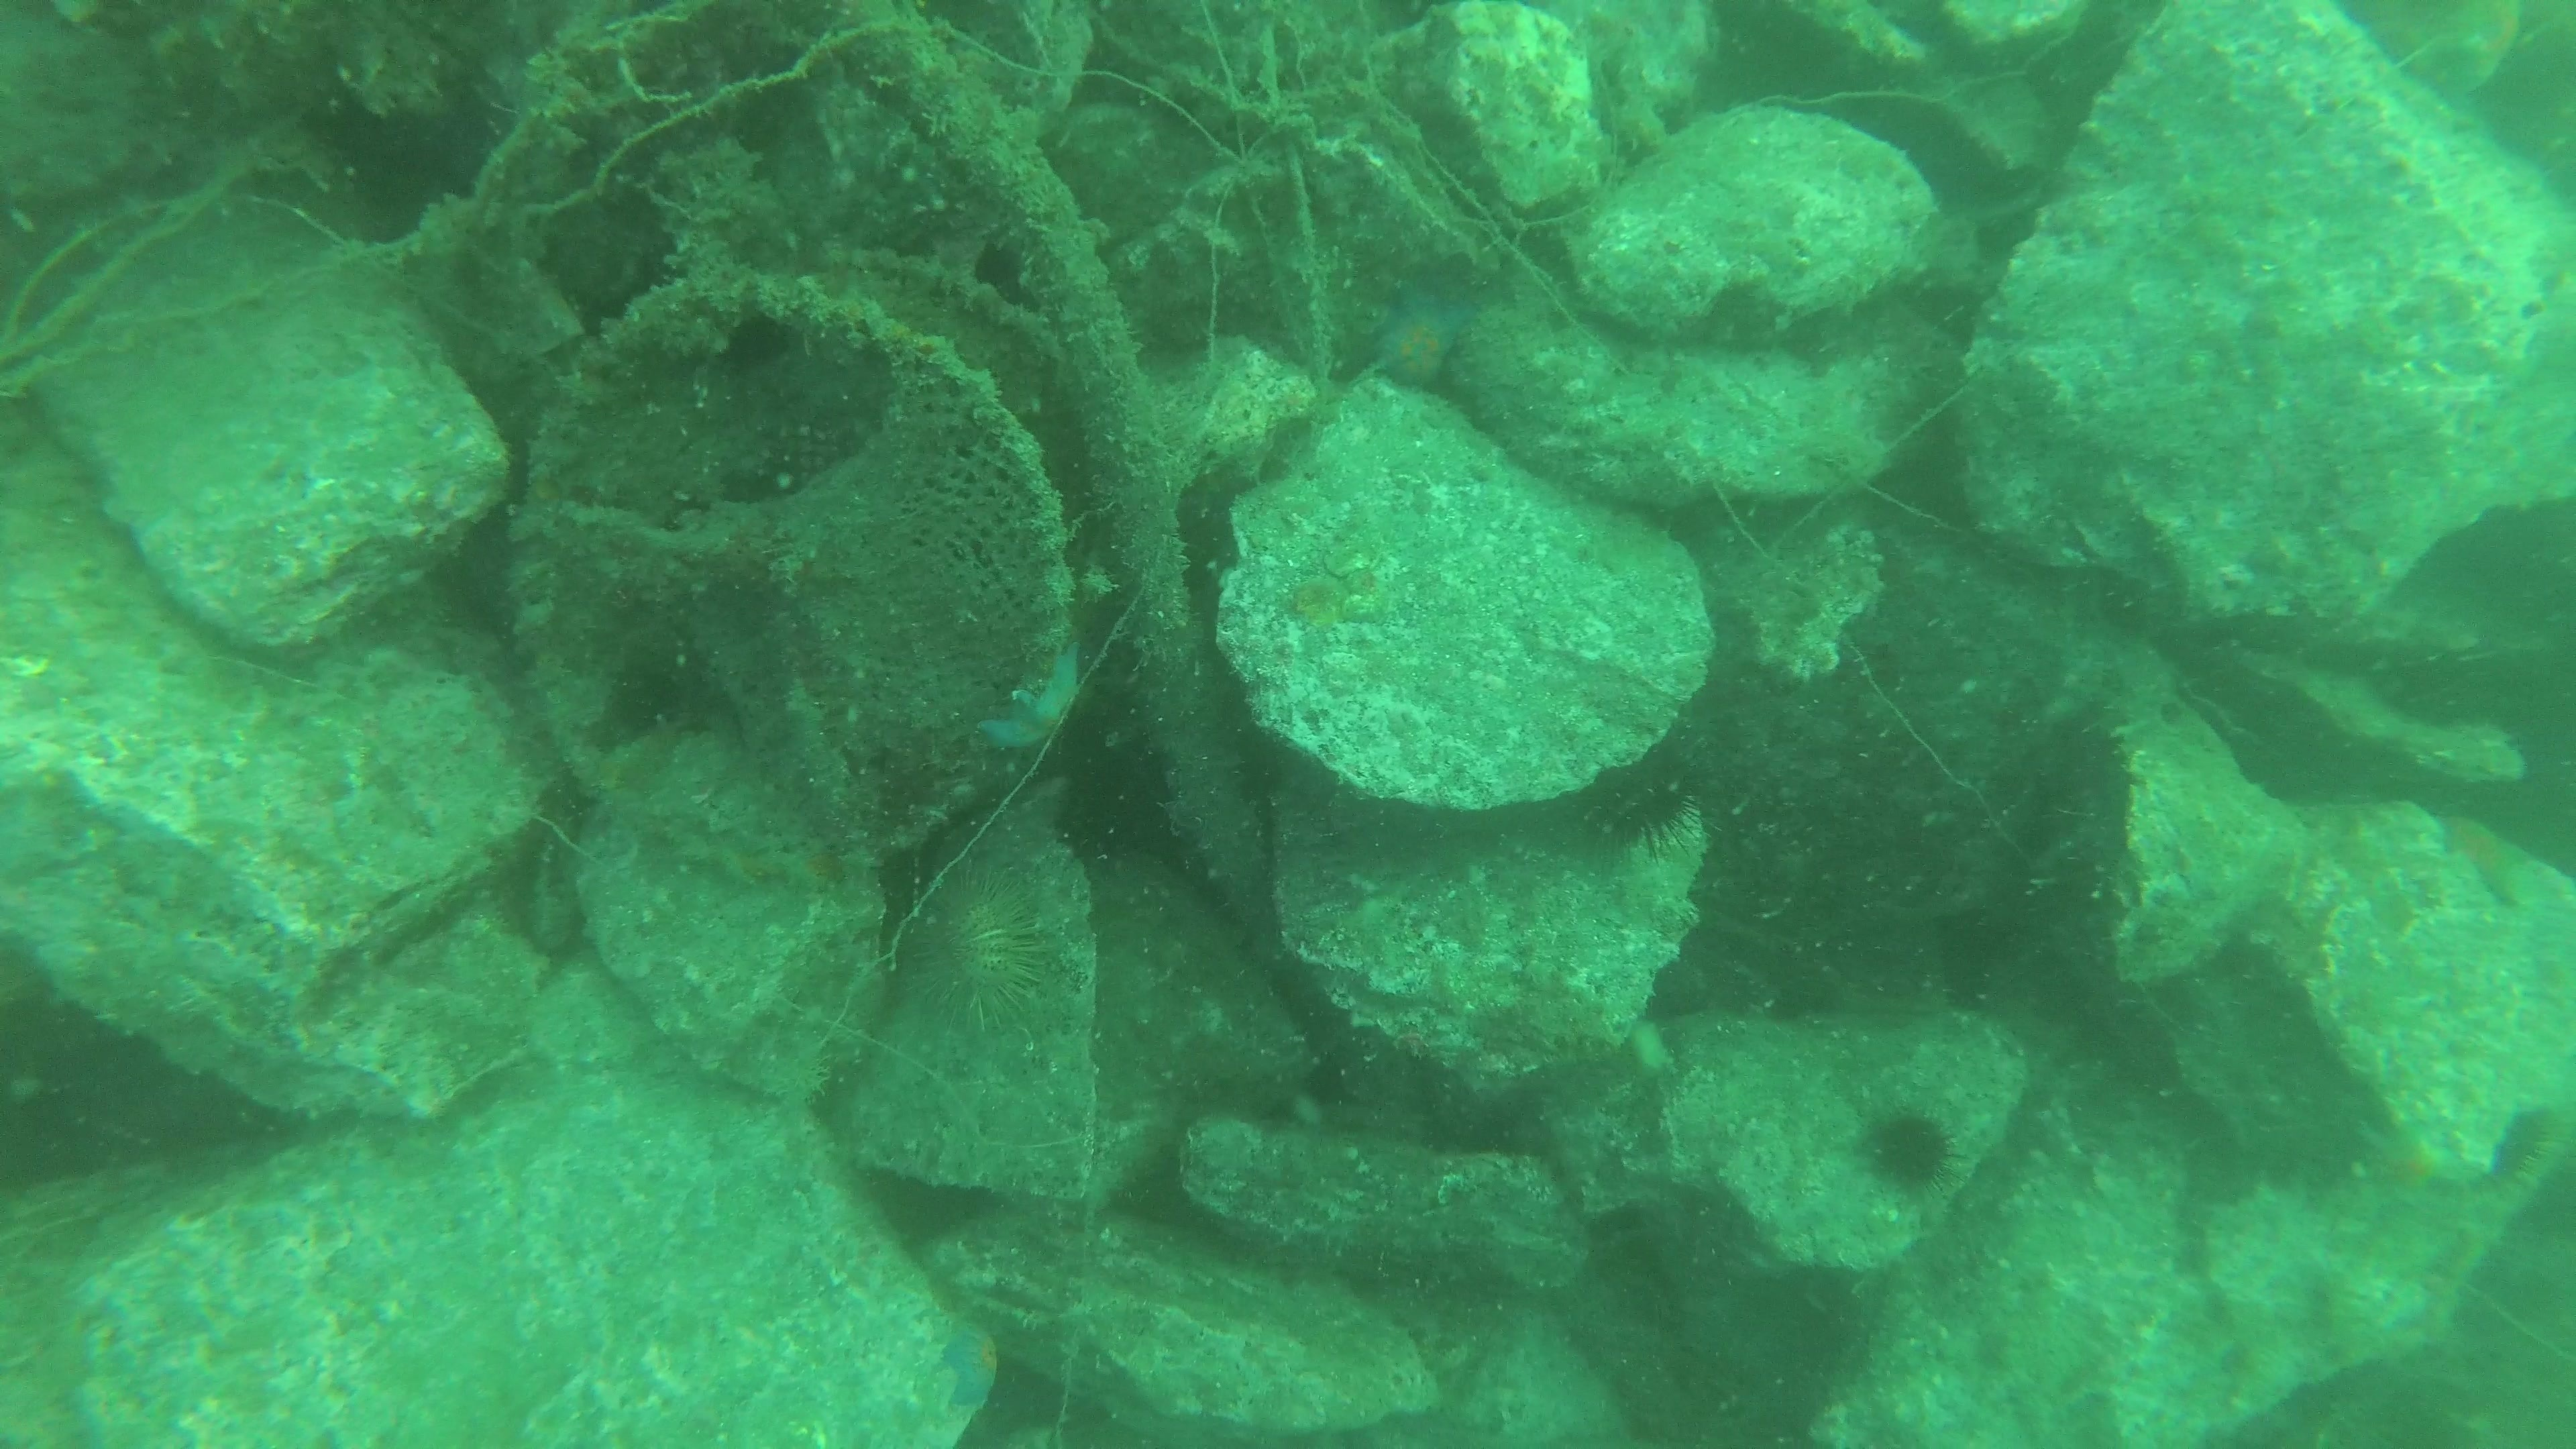echinus: (888, 858, 1062, 1049), (1042, 702, 1185, 870), (1568, 741, 1702, 858), (1852, 1099, 1962, 1200)
starfish: (1357, 272, 1483, 403), (971, 633, 1092, 770), (2431, 805, 2541, 913), (2355, 1111, 2463, 1210), (927, 1306, 1005, 1428)
